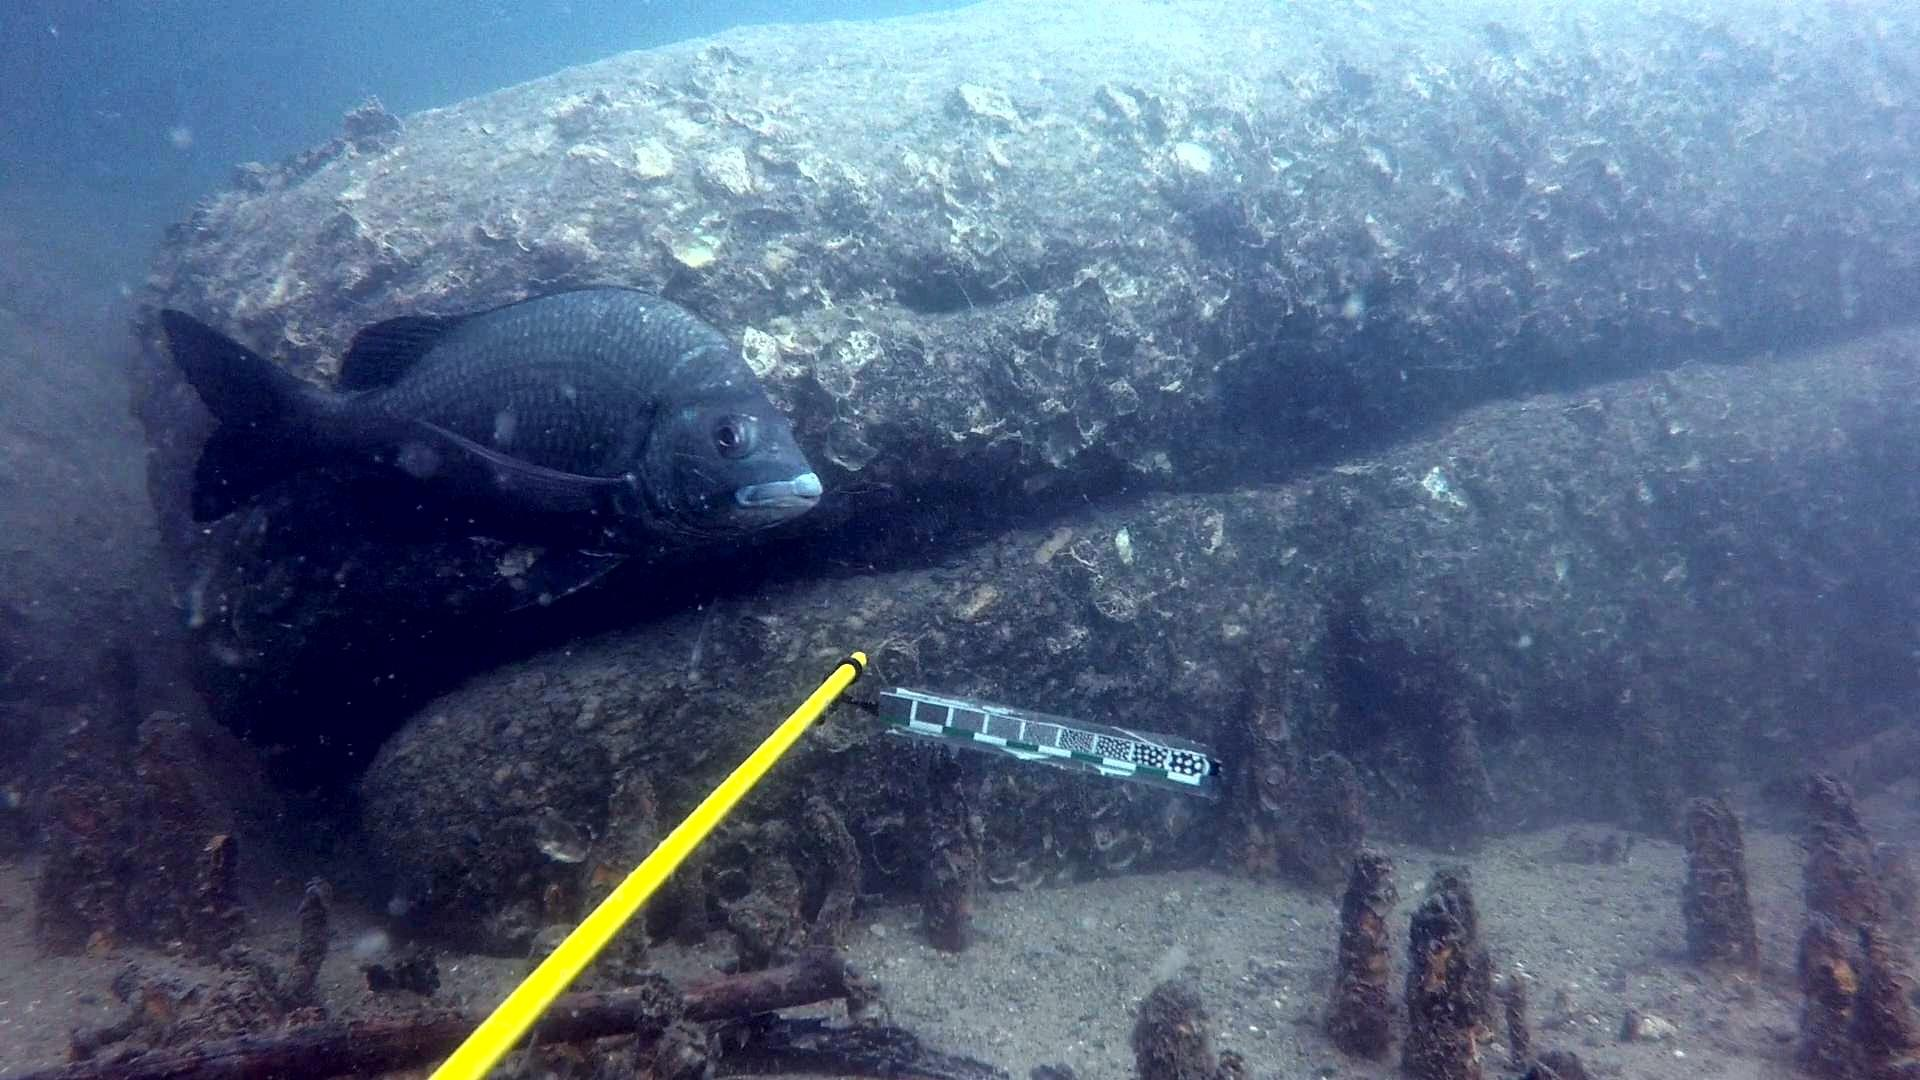acanthopagrus palmaris: (145, 273, 833, 600)
